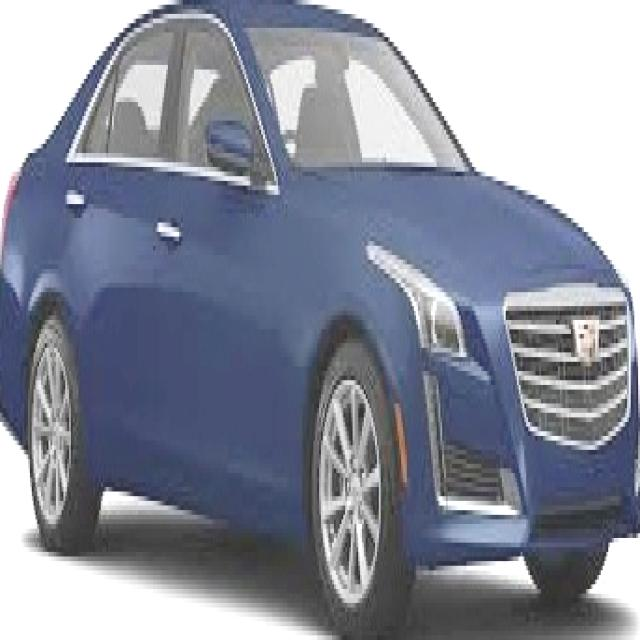blue: (0, 12, 634, 639)
